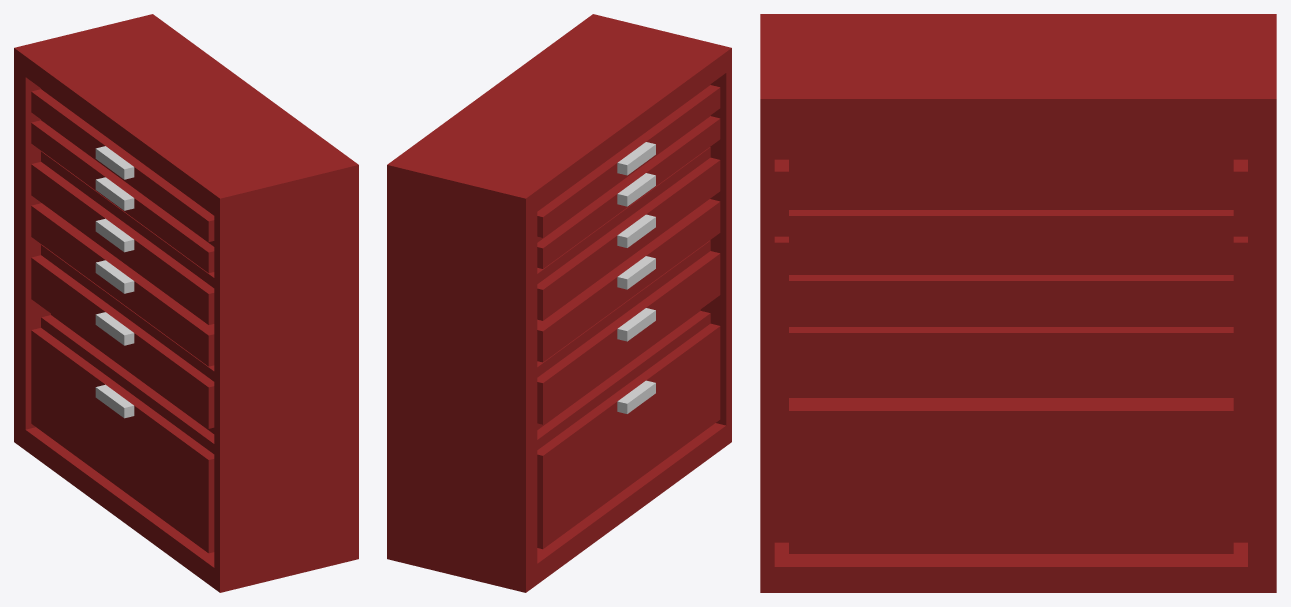
The model's file is toolchest.glb.
3 views of the same model, side by side, from view 1: azimuth 30°, elevation 25°; view 2: azimuth 150°, elevation 25°; view 3: azimuth 270°, elevation 25° (orthographic). The views are drawn at different scales.
Visible parts, largest first — view 1: toolchest; view 2: toolchest; view 3: toolchest.
Part boxes in pixels (<box>): toolchest: <box>14,14,358,592</box>; toolchest: <box>387,14,731,592</box>; toolchest: <box>760,14,1276,592</box>.
Bounding box in the file's own units: 1.5 × 3.8 × 3.6.
1 material, 1 textured.
